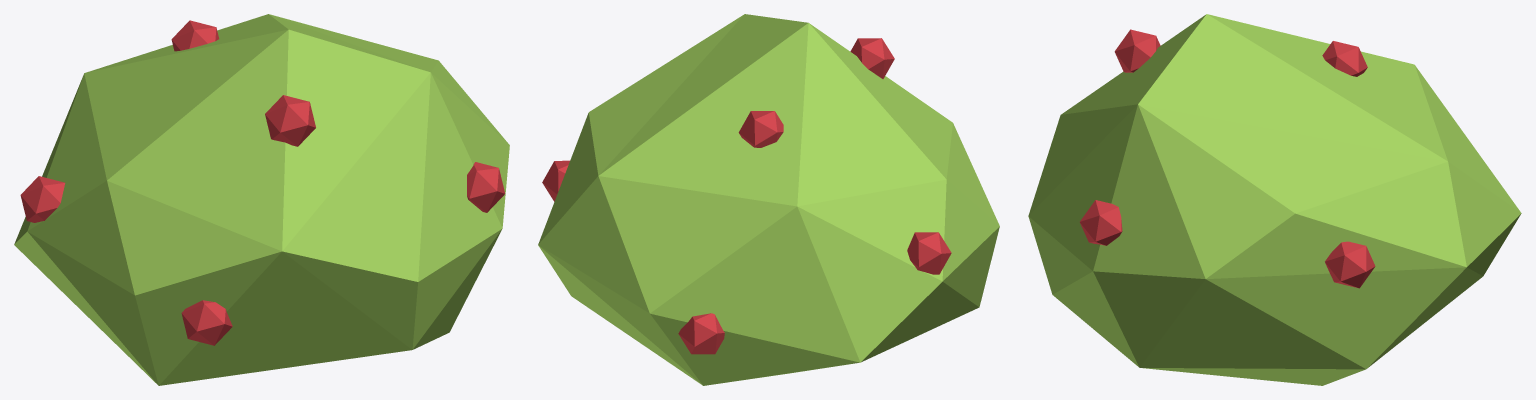
Rendered from BushWithBerrys03.fbx.
3 renders of one model, left to right at view 1: azimuth 30°, elevation 25°; view 2: azimuth 150°, elevation 25°; view 3: azimuth 270°, elevation 25°, orthographic. The views are drawn at different scales.
Visible parts, largest first — view 1: Bush03, BushBerry03; view 2: Bush03, BushBerry03; view 3: Bush03, BushBerry03.
Part boxes in pixels (box(x1,y1,x2,y2)): Bush03: box(14, 14, 509, 385); BushBerry03: box(20, 20, 505, 345); Bush03: box(538, 14, 999, 385); BushBerry03: box(542, 38, 951, 354); Bush03: box(1028, 14, 1521, 385); BushBerry03: box(1080, 29, 1375, 288).
Bounding box in the file's own units: 111 × 87.74 × 116.
